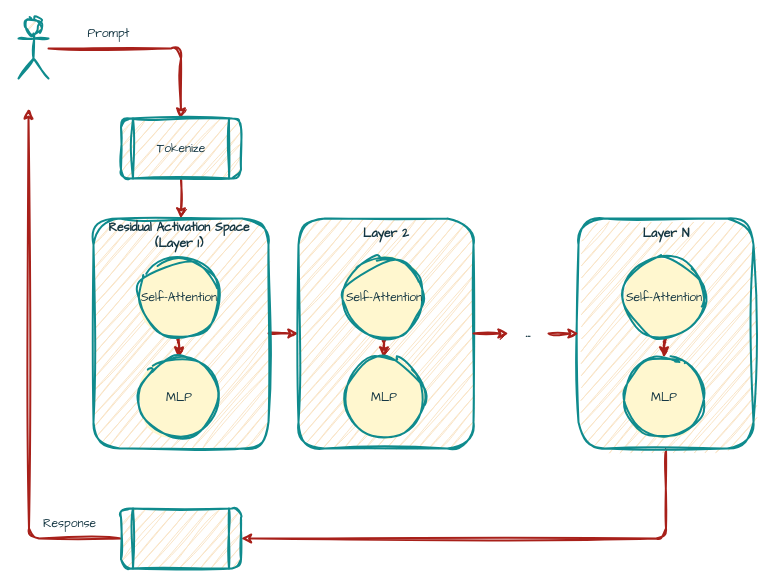
Some shapes in this 771 by 586 pixel diagram are drawn without their labels. The box of each missing label's shape, as (x1, y1, x2, y2) in pixels:
De-tokenize: (120, 507, 242, 569)
User: (17, 17, 49, 79)
